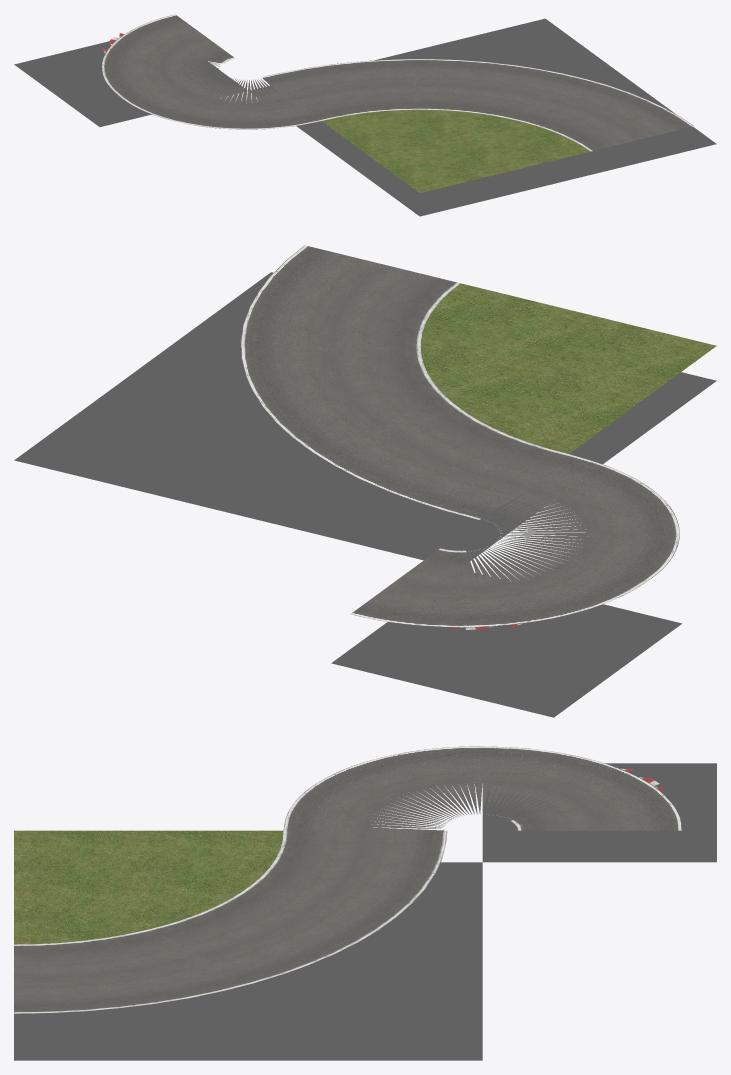
The model's file is map2.obj.
3 renders of one model, top to bottom at view 1: azimuth 30°, elevation 25°; view 2: azimuth 150°, elevation 25°; view 3: azimuth 270°, elevation 25°, orthographic. The views are drawn at different scales.
Parts seen in each view (by area): view 1: map3.006_map3.007; view 2: map3.006_map3.007; view 3: map3.006_map3.007.
Boxes of the visible parts, x1=… form: map3.006_map3.007: x1=14, y1=14, x2=716, y2=216; map3.006_map3.007: x1=14, y1=245, x2=716, y2=717; map3.006_map3.007: x1=14, y1=746, x2=716, y2=1060.
Size of the model in its own units: 15.15 by 0.7748 by 15.15.
4 materials, 3 textured.
